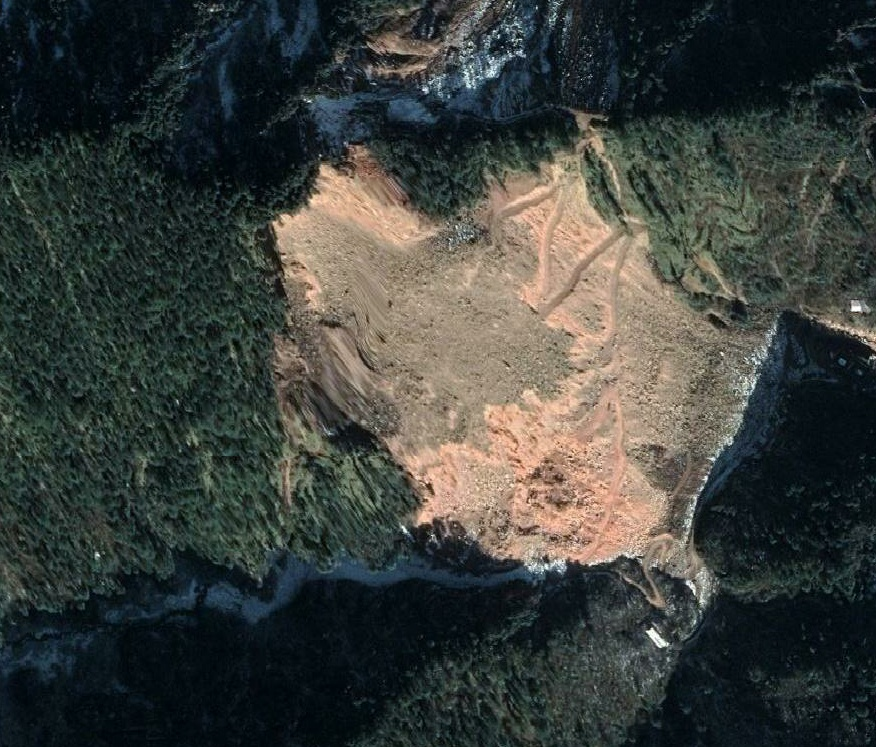slope: (273, 126, 805, 613)
